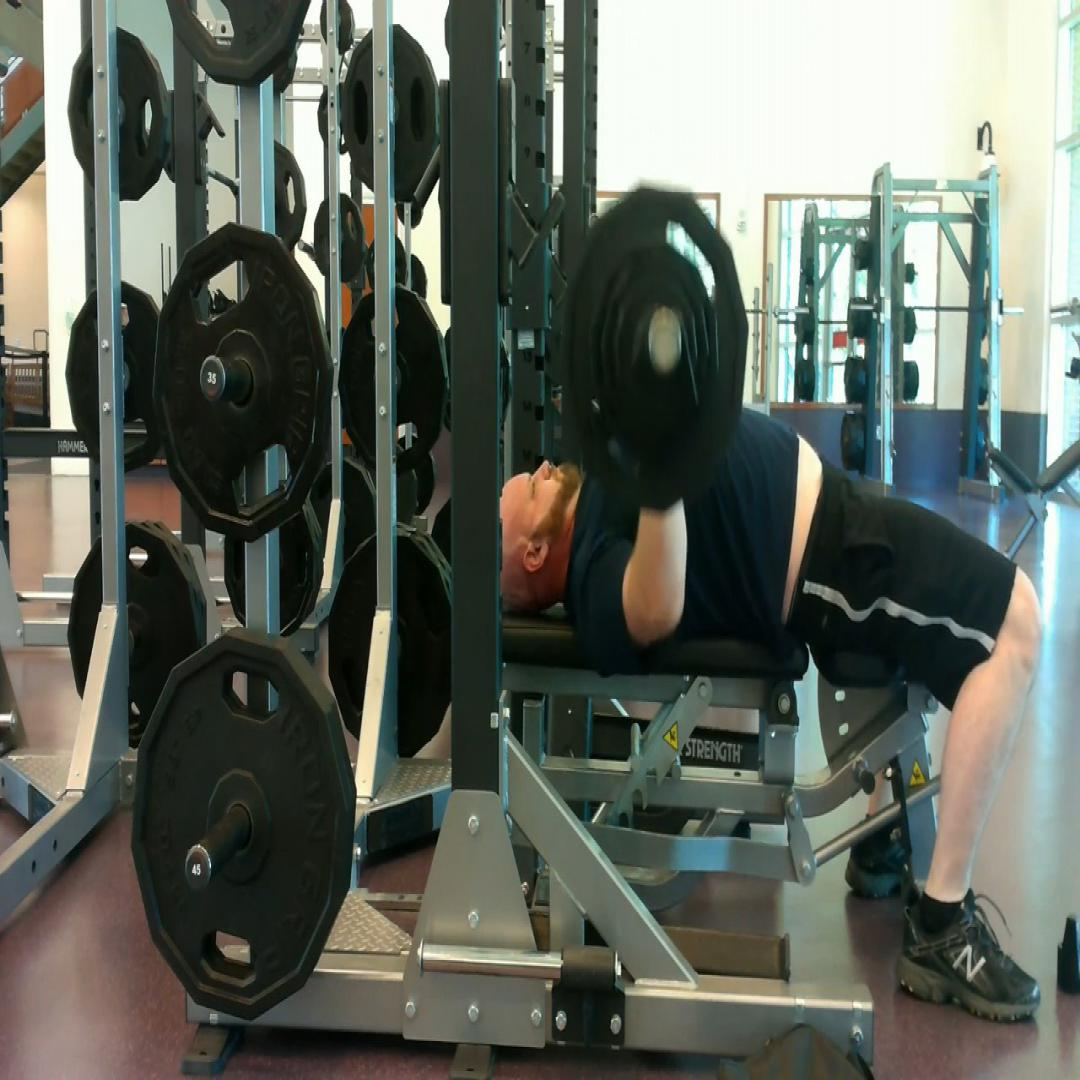Bar: (648, 308, 682, 372)
Barbell: (564, 189, 749, 511)
